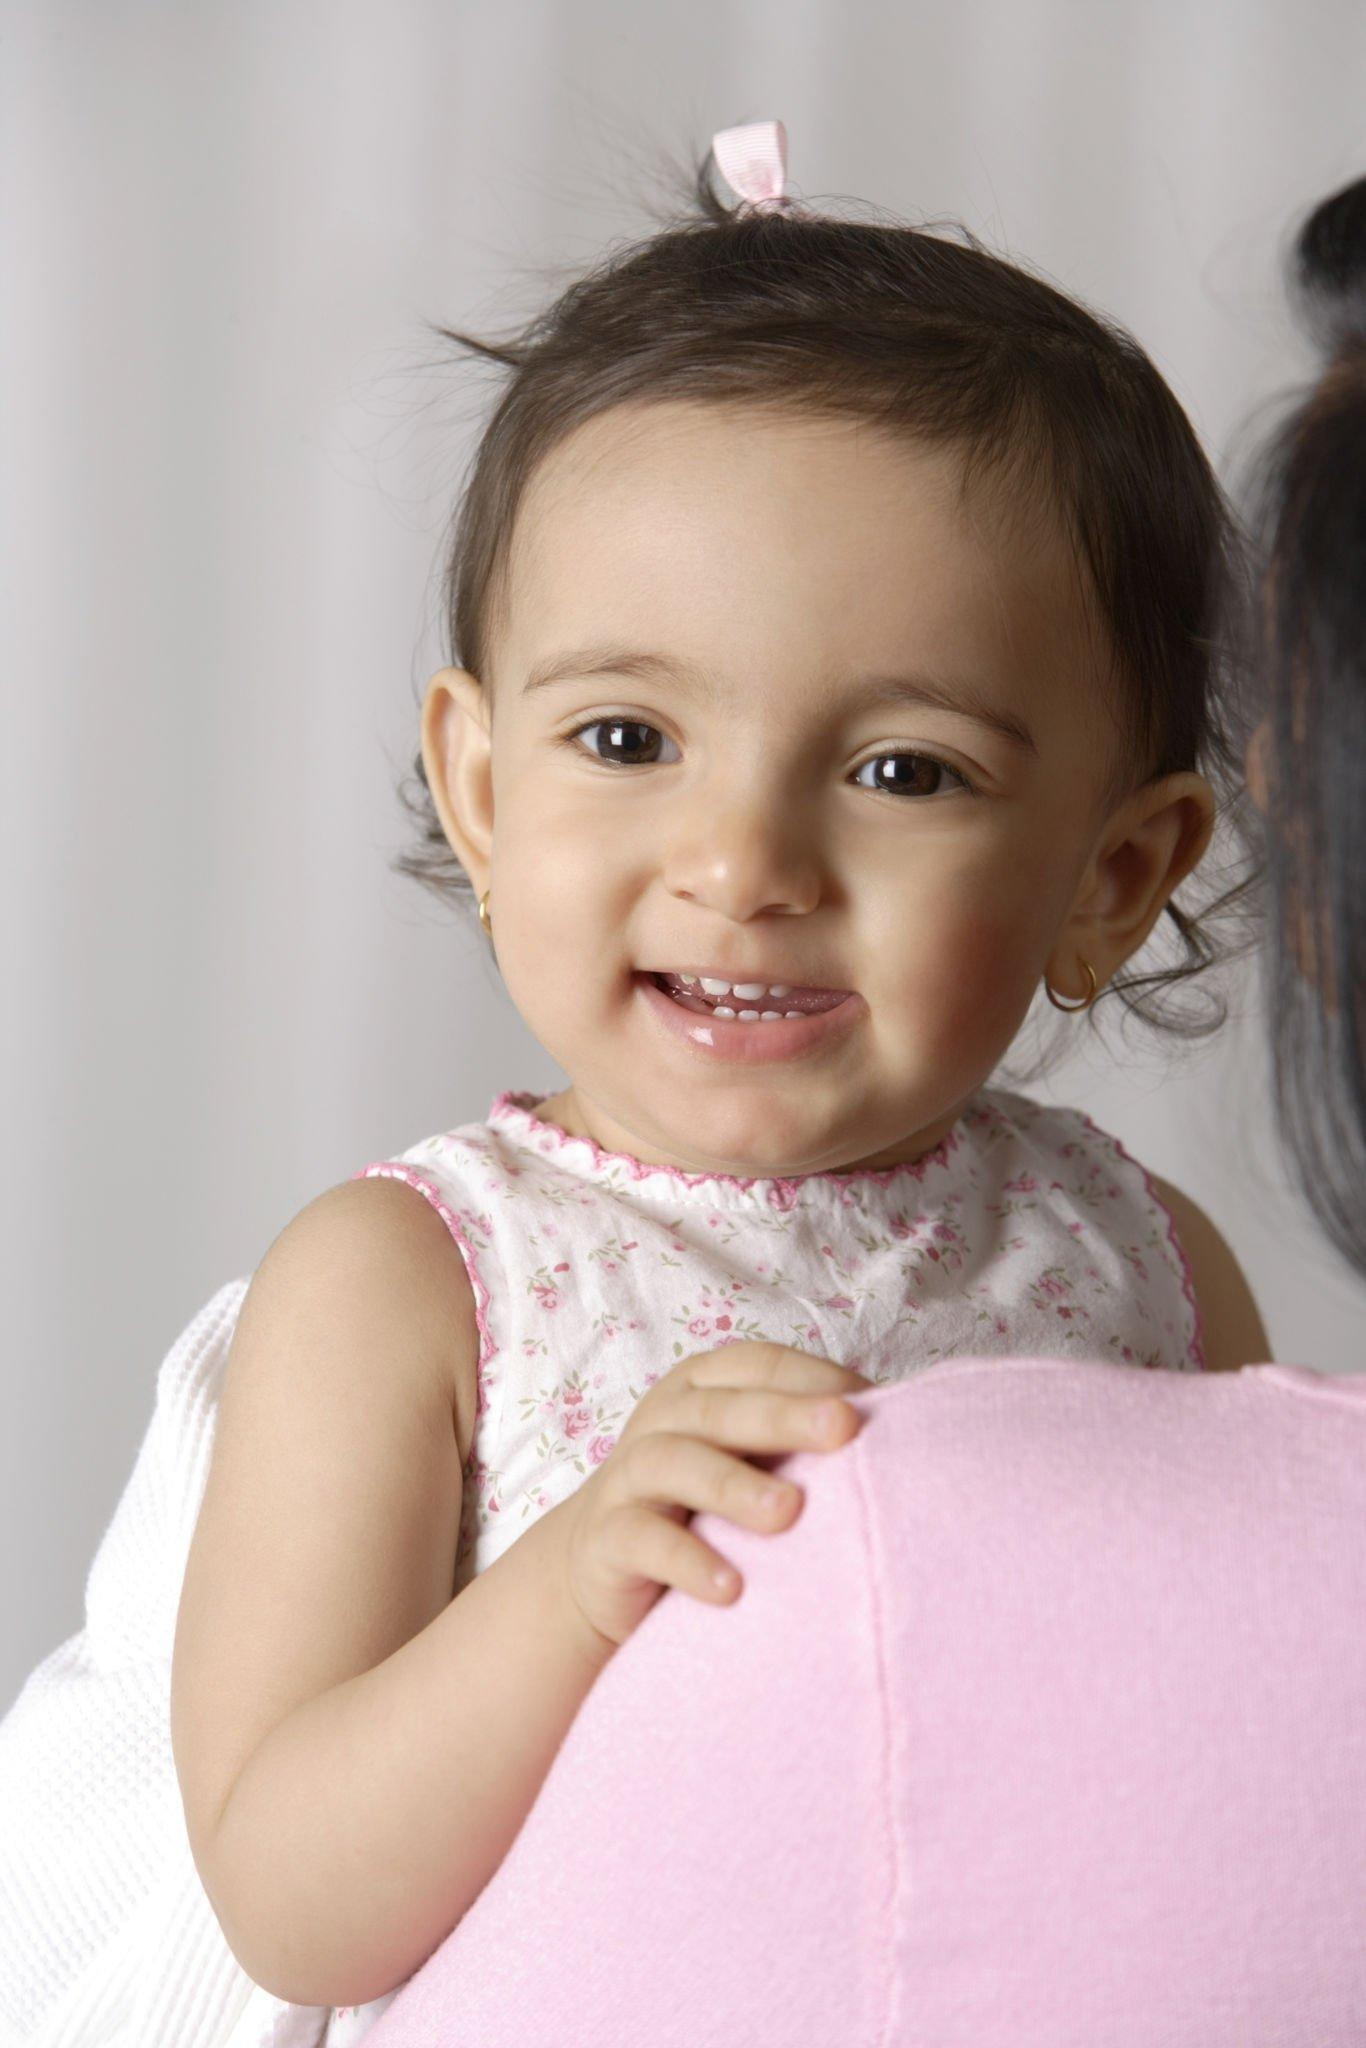Healthy: (477, 431, 1052, 1199)
